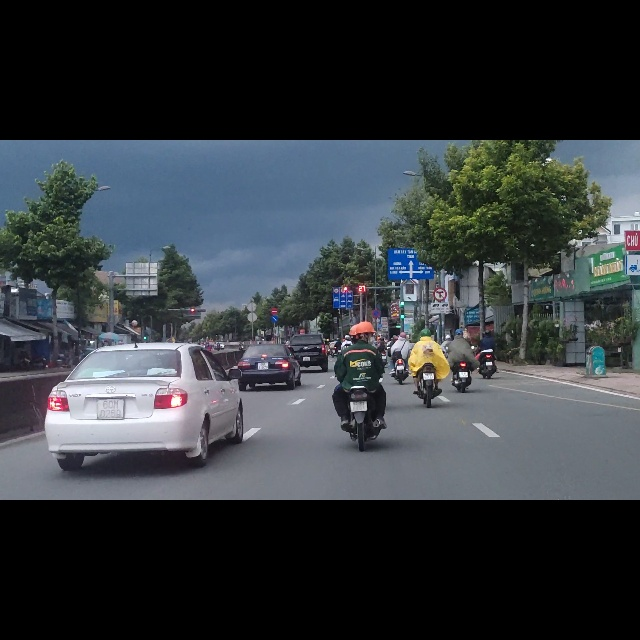bien_cam: (333, 271, 353, 299), (433, 263, 447, 287), (271, 312, 279, 325), (372, 302, 380, 315), (271, 299, 278, 310)
